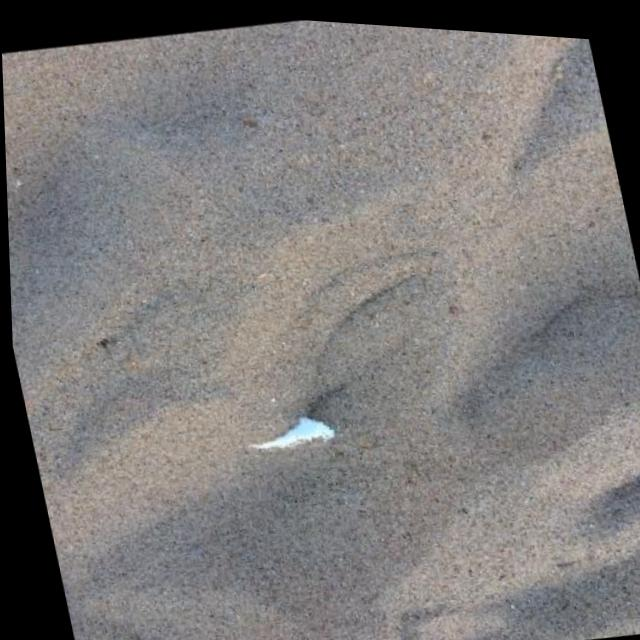foam: (243, 406, 337, 455)
